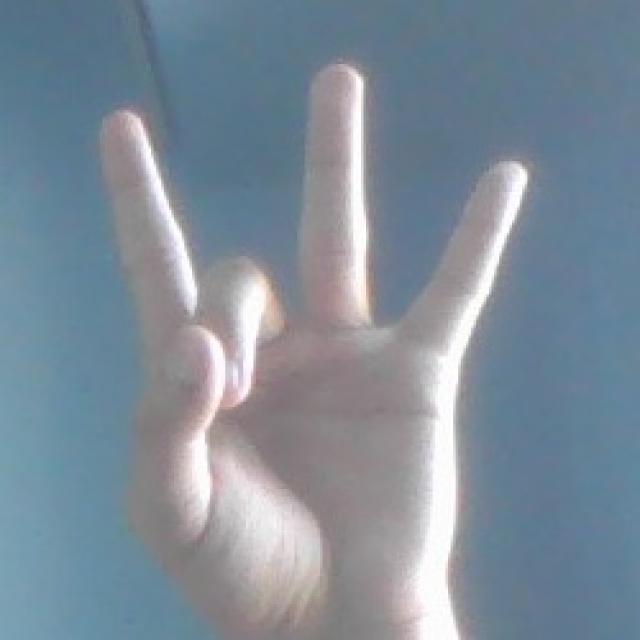Numeric-8: (92, 65, 524, 621)
